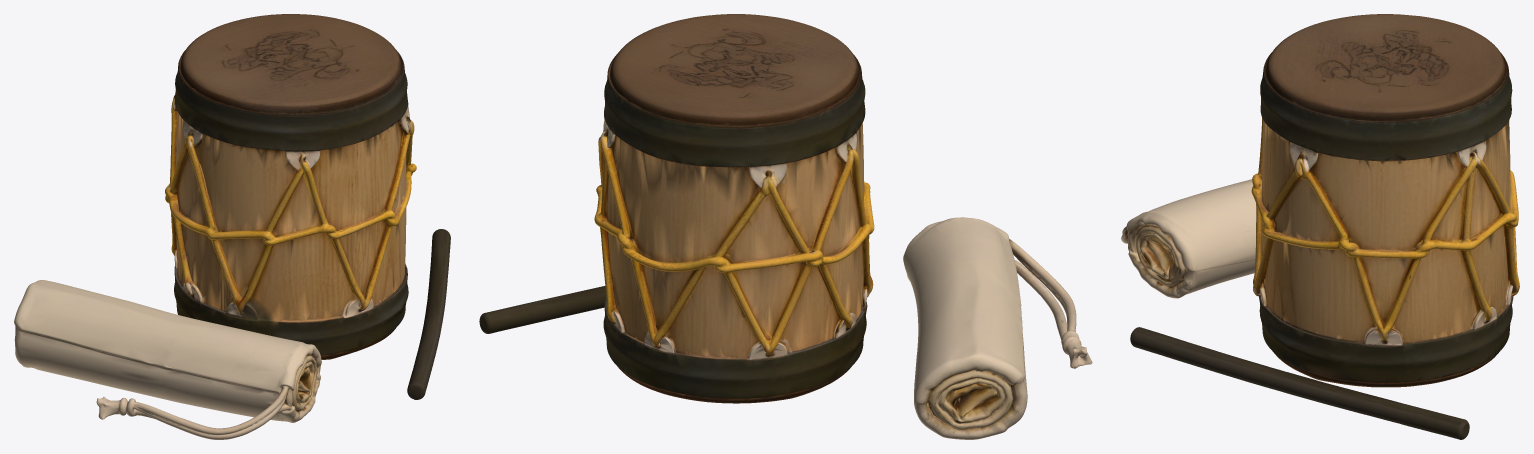
Rendered from modelo.glb.
3 renders of one model, left to right at view 1: azimuth 30°, elevation 25°; view 2: azimuth 150°, elevation 25°; view 3: azimuth 270°, elevation 25°, orthographic. The views are drawn at different scales.
Parts seen in each view (by area): view 1: node_0; view 2: node_0; view 3: node_0.
Boxes of the visible parts, x1=… form: node_0: x1=14, y1=14, x2=450, y2=439; node_0: x1=479, y1=14, x2=1092, y2=439; node_0: x1=1121, y1=14, x2=1519, y2=439.
Size of the model in its own units: 0.9806 by 0.5347 by 0.6816.
1 material, 1 textured.
